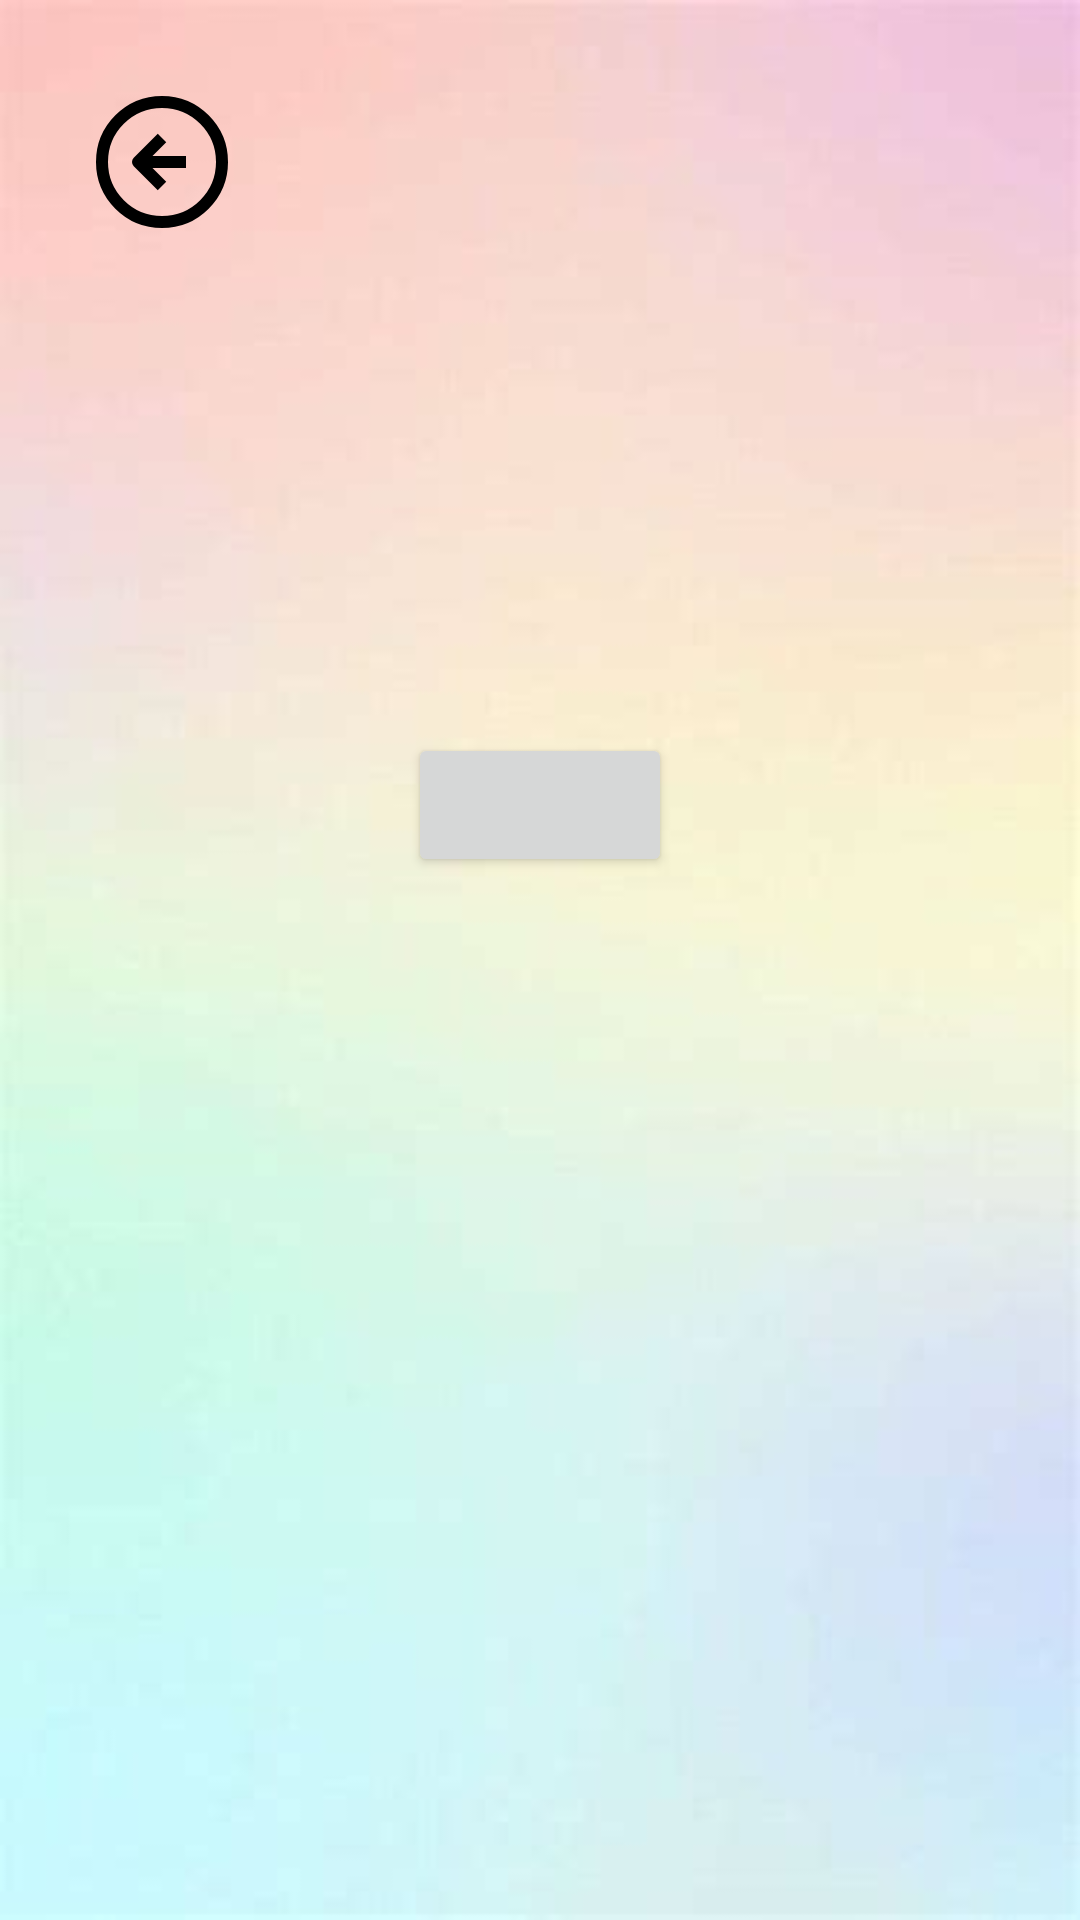

Point at icon controls on the screen. Image size 1080 × 1920, points as (x=x, y=y).
back: (x=162, y=162)
